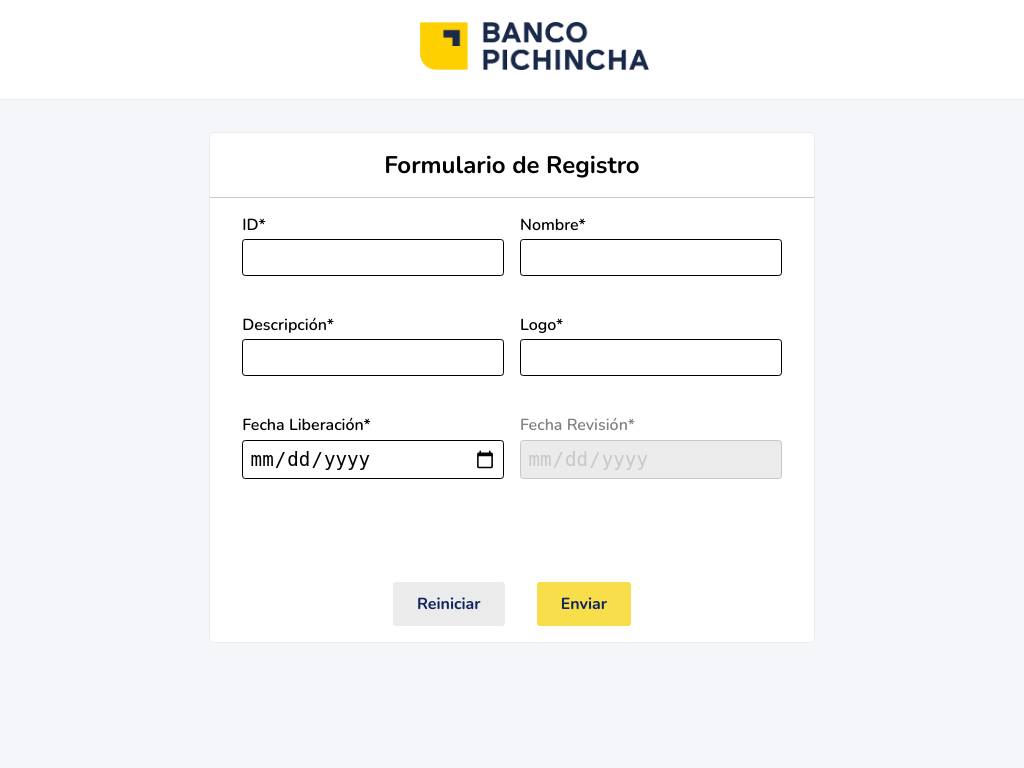
Test: AssetForm › Inputs › Validation › ID › Shows a message if the ID is not unique
Type "asdfg12345" into the field labelled "ID".
click(373, 257); type("asdfg12345")  # box [242,239,504,276]
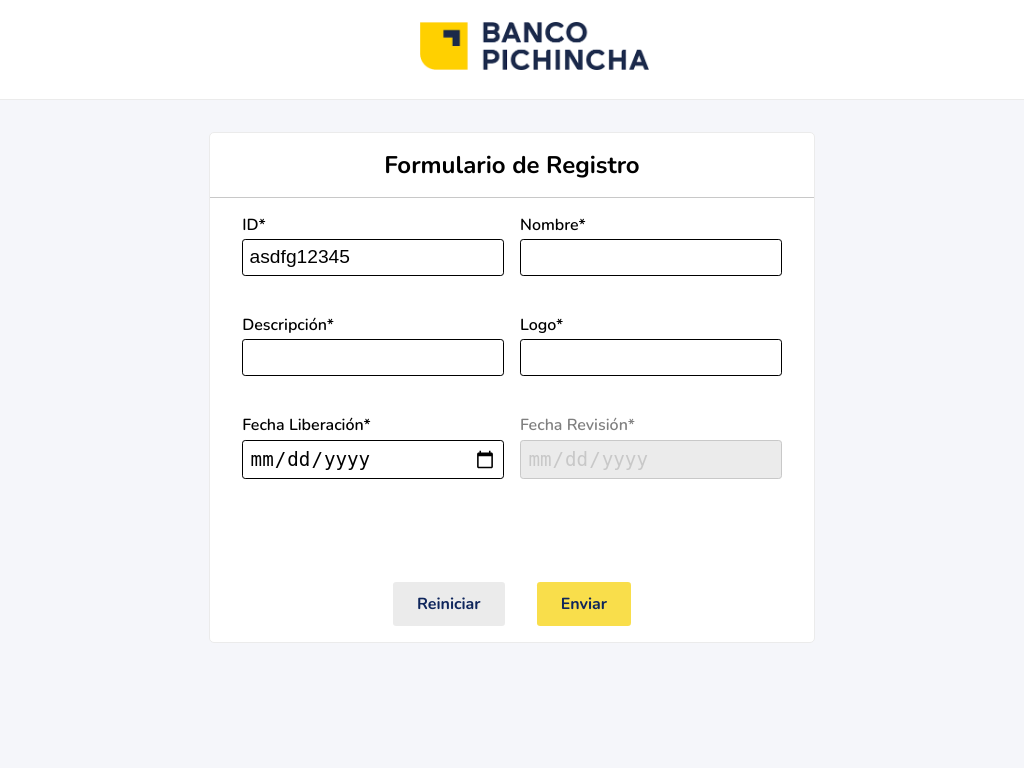
Leave the field labelled "ID", box [242,239,504,276]
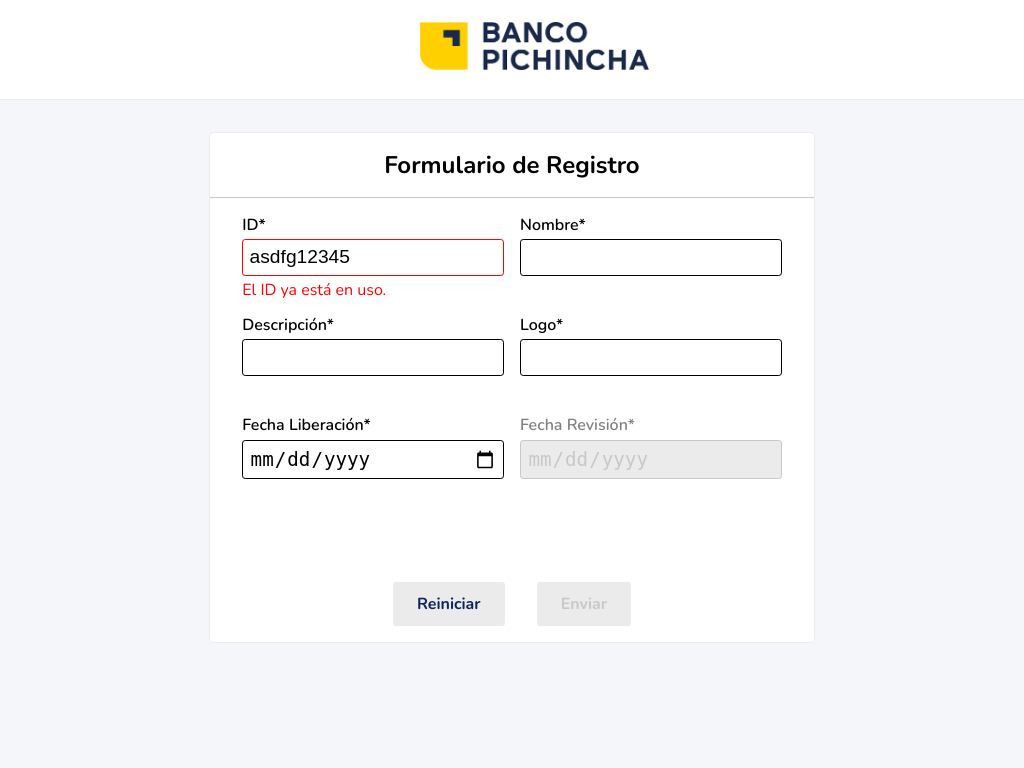
Check: the text "El ID ya está en uso." is shown, box [242,279,386,301]
